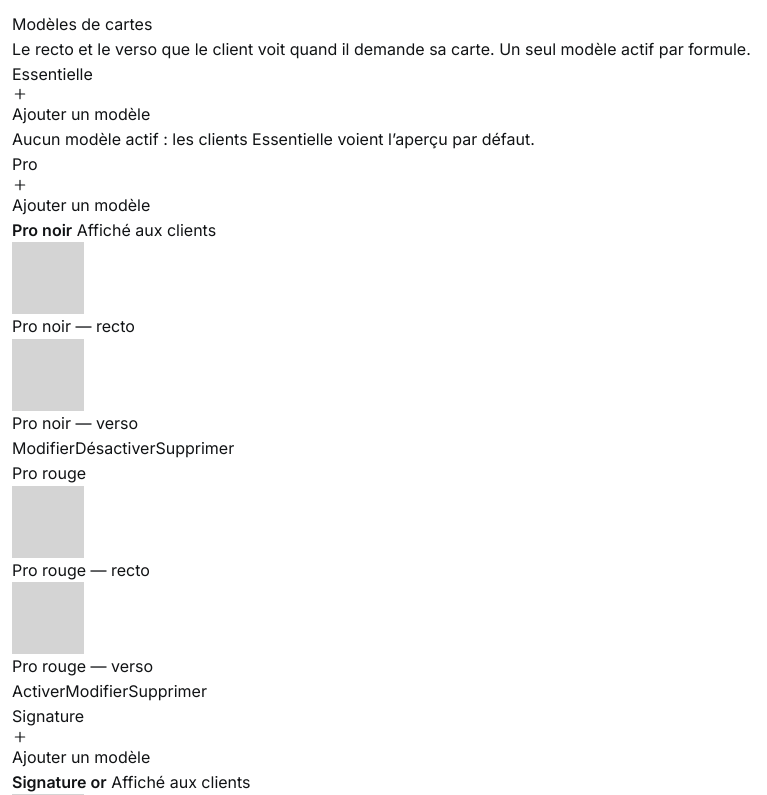
Scenario: Modèles de cartes (admin) › activer un modèle remplace l'ancien modèle actif de la formule
Click the button "Activer": (39, 692) top-left (12, 679), bottom-right (65, 704)
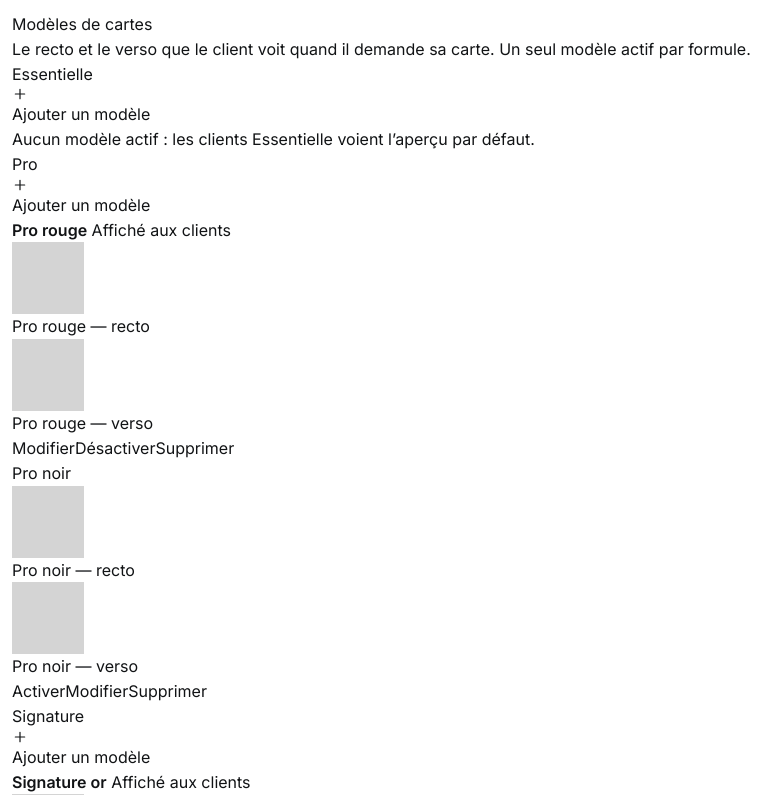
Expected: the element with class "mc-active" shows "Pro rouge", top-left (12, 220), bottom-right (87, 240)
Expected: the list with class "mc-others" shows "Pro noir", top-left (12, 463), bottom-right (71, 483)
